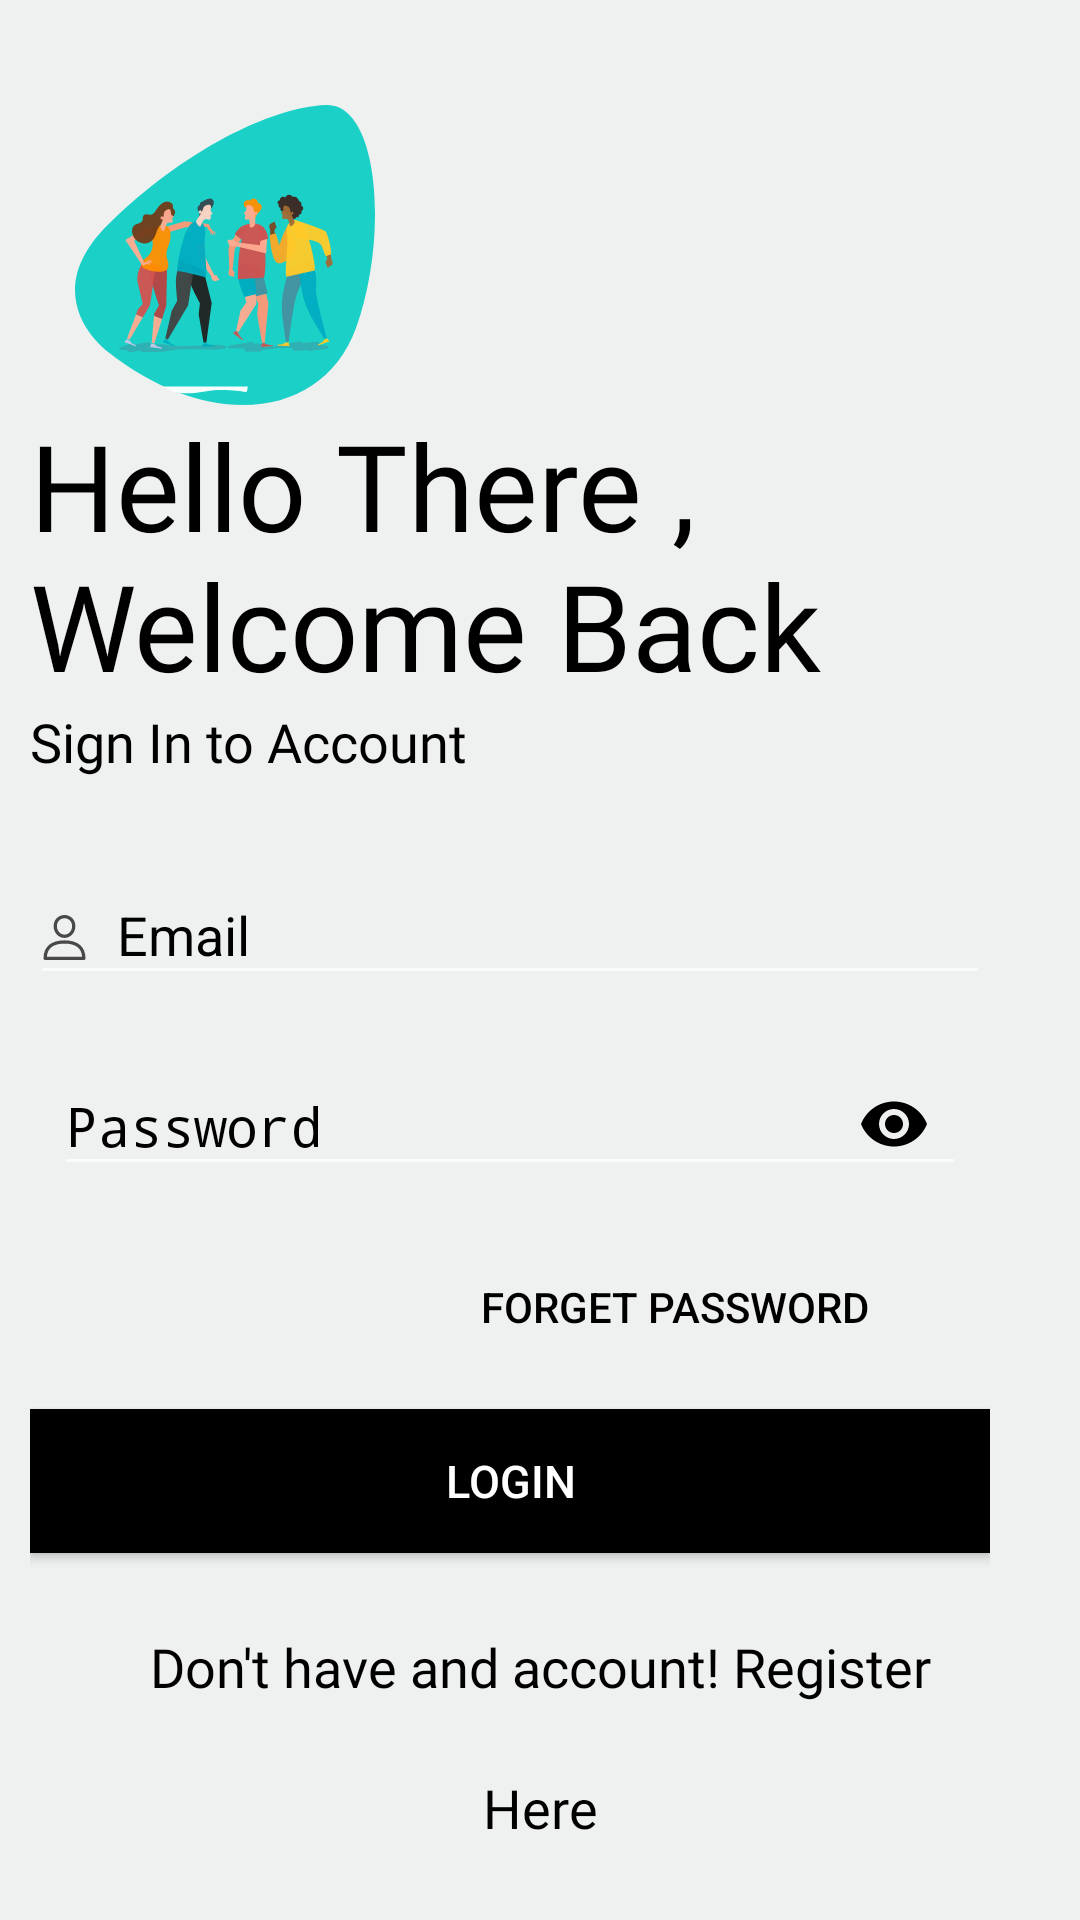

Screen size 1080x1920. Icon name, then its center in pixels as (x,y):
register hero: (225,255)
